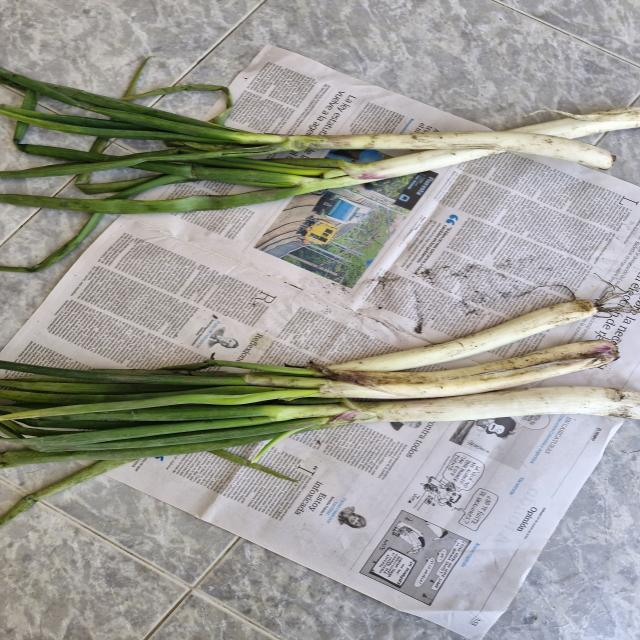green_onion: (0, 291, 594, 509), (0, 94, 628, 222)
